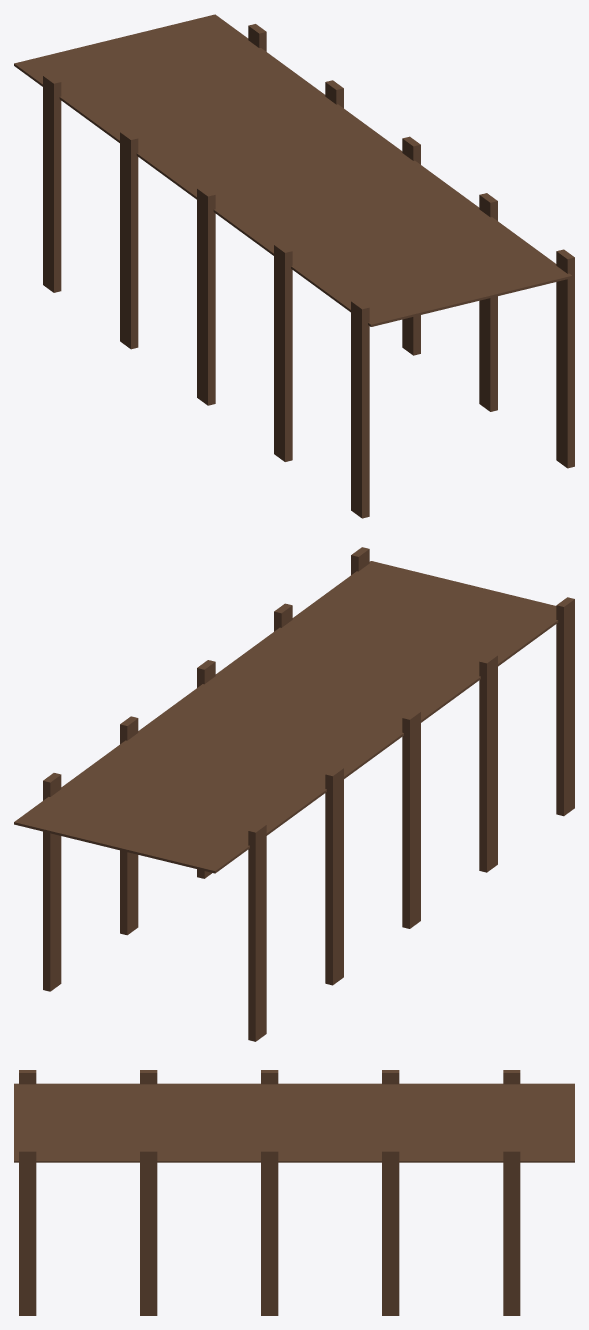
Rendered from walkway.dae.
The picture shows the model from 3 angles, top to bottom: view 1: azimuth 30°, elevation 25°; view 2: azimuth 150°, elevation 25°; view 3: azimuth 270°, elevation 25°; orthographic projection. The views are drawn at different scales.
Visible parts, largest first — view 1: runway_Cube_000; view 2: runway_Cube_000; view 3: runway_Cube_000.
Boxes of the visible parts, left/top/right/bottom form: runway_Cube_000: left=14, top=14, right=574, bottom=518; runway_Cube_000: left=14, top=547, right=574, bottom=1041; runway_Cube_000: left=14, top=1070, right=574, bottom=1315.
Bounding box in the file's own units: 4.03 × 11.71 × 3.78.
